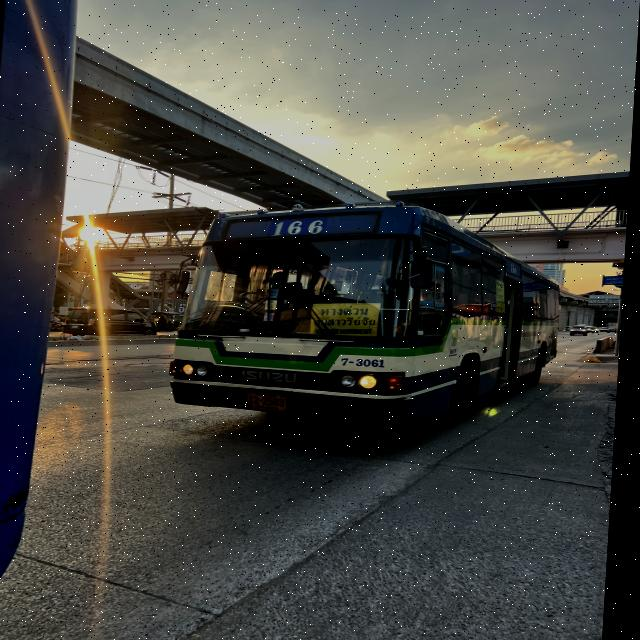BMTA-bus: (173, 204, 565, 428)
Bus Line Number: (269, 217, 333, 239)
Bus Side Number: (344, 357, 392, 368)
Destination Sign: (315, 304, 385, 335)
